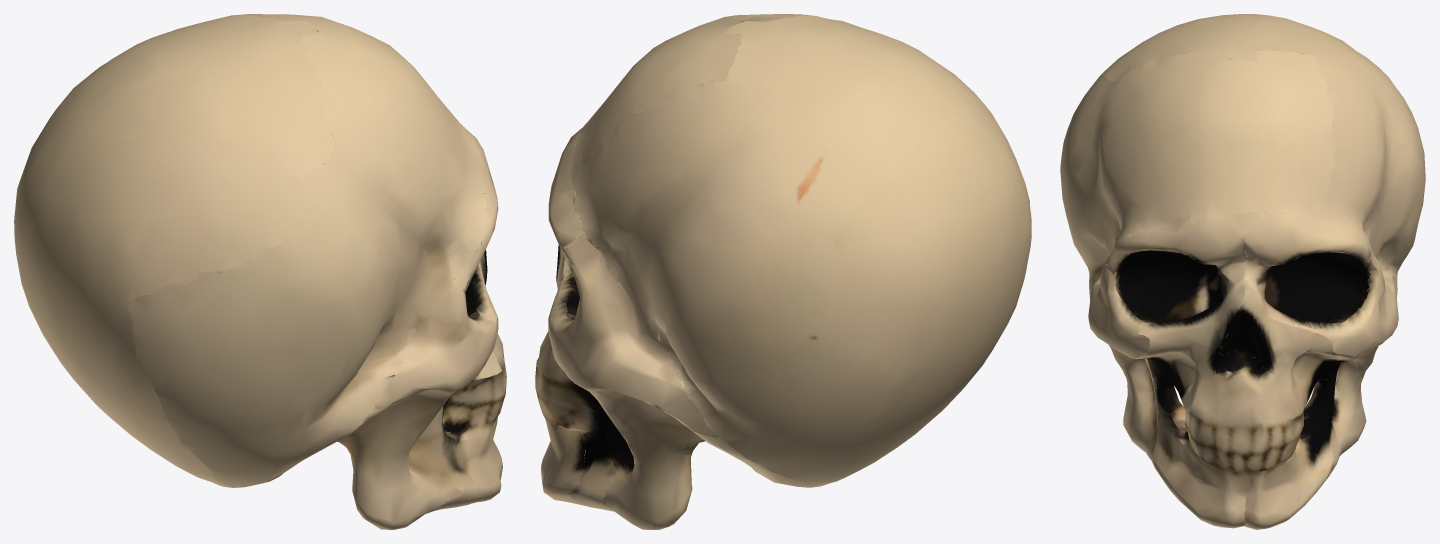
File: teschio.glb
3 views of the same model, side by side, from view 1: azimuth 30°, elevation 25°; view 2: azimuth 150°, elevation 25°; view 3: azimuth 270°, elevation 25° (orthographic). The views are drawn at different scales.
Parts seen in each view (by area): view 1: teschio; view 2: teschio; view 3: teschio.
Boxes of the visible parts, box(x1,y1,x2,y2) form: teschio: box(14, 14, 506, 529); teschio: box(535, 14, 1031, 529); teschio: box(1060, 14, 1425, 529).
Bounding box in the file's own units: 0.2069 × 0.2221 × 0.1812.
Materials: 1 (1 with a texture image).
